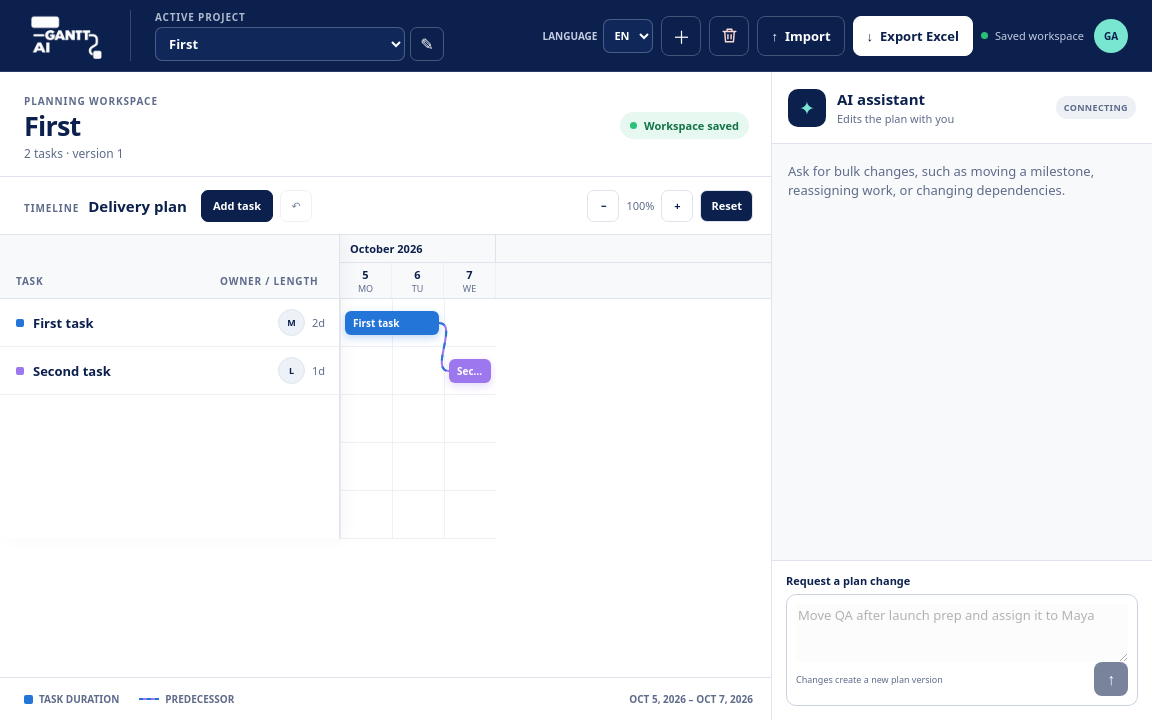
Scenario: plan view › preserves a stale workspace and named-project draft when creation returns 404
The image size is (1152, 720).
Click the button named "New project". click: {"x": 681, "y": 36}
box: [661,16,701,56]
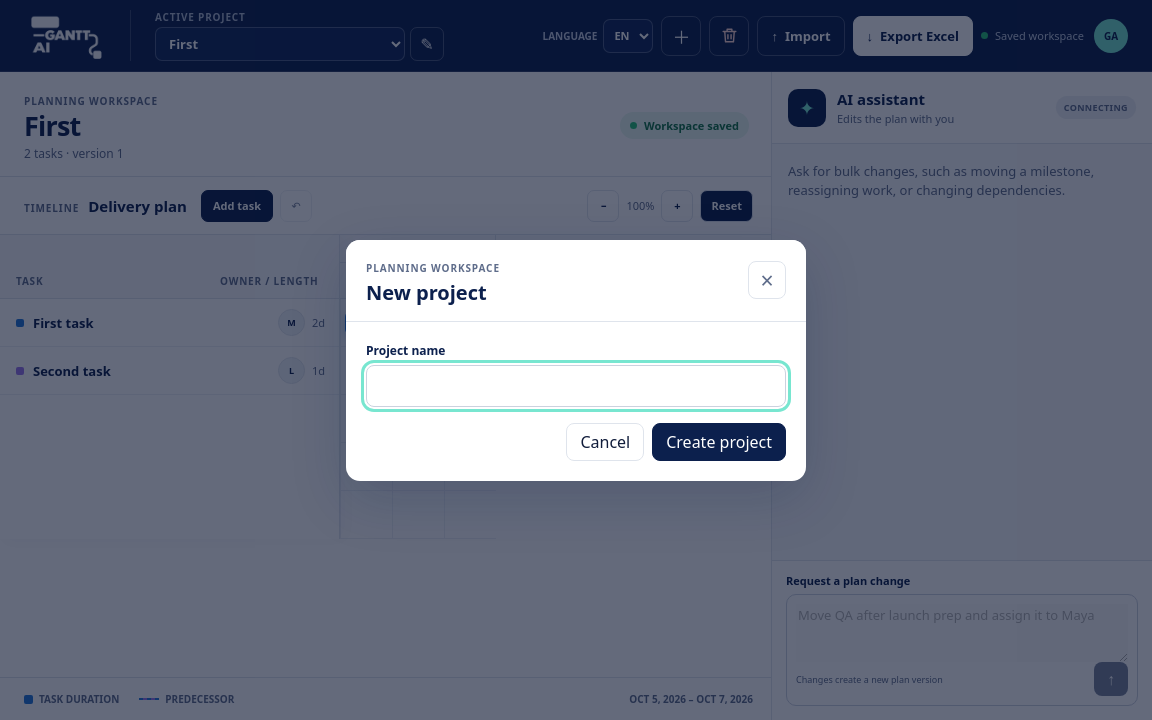
Type "Second" into the field labelled "Project name". click: {"x": 576, "y": 386}
box: [366,364,786,406]
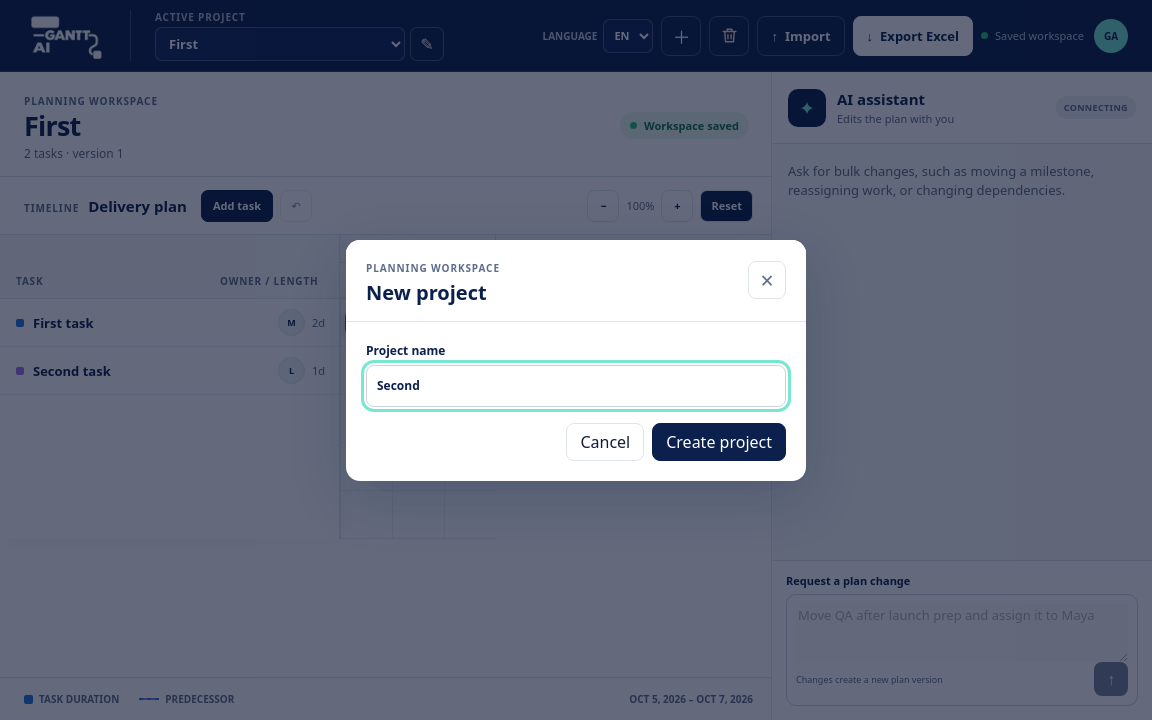
Click the button "Create project". click: {"x": 719, "y": 442}
box: [652,422,786,460]
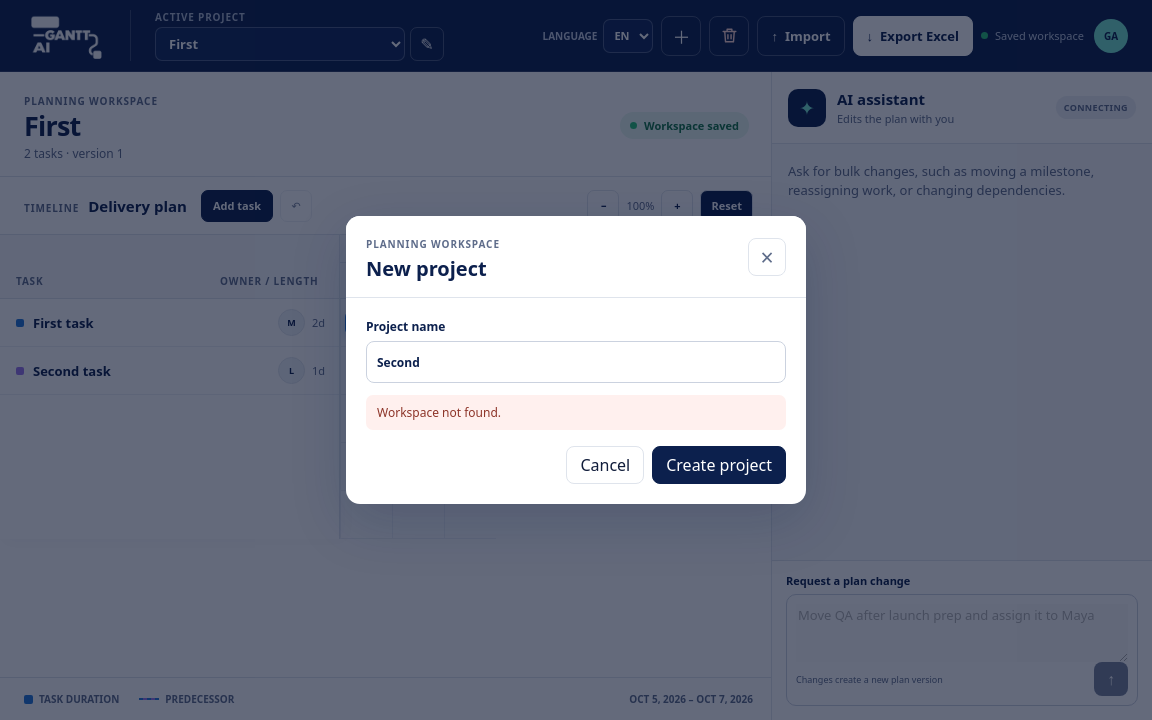
Expected: the heading "First" is shown, [24,107,80,144]
Now the message shows "Workspace not found", box [377,404,501,421]
